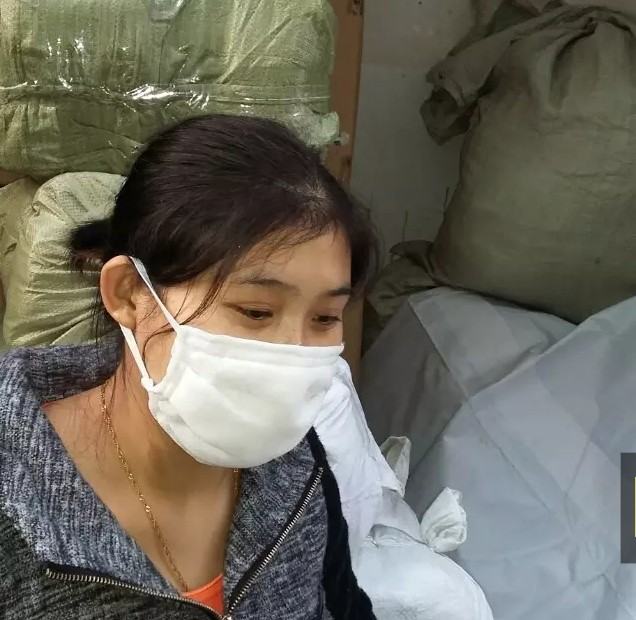face_mask: (151, 222, 340, 465)
